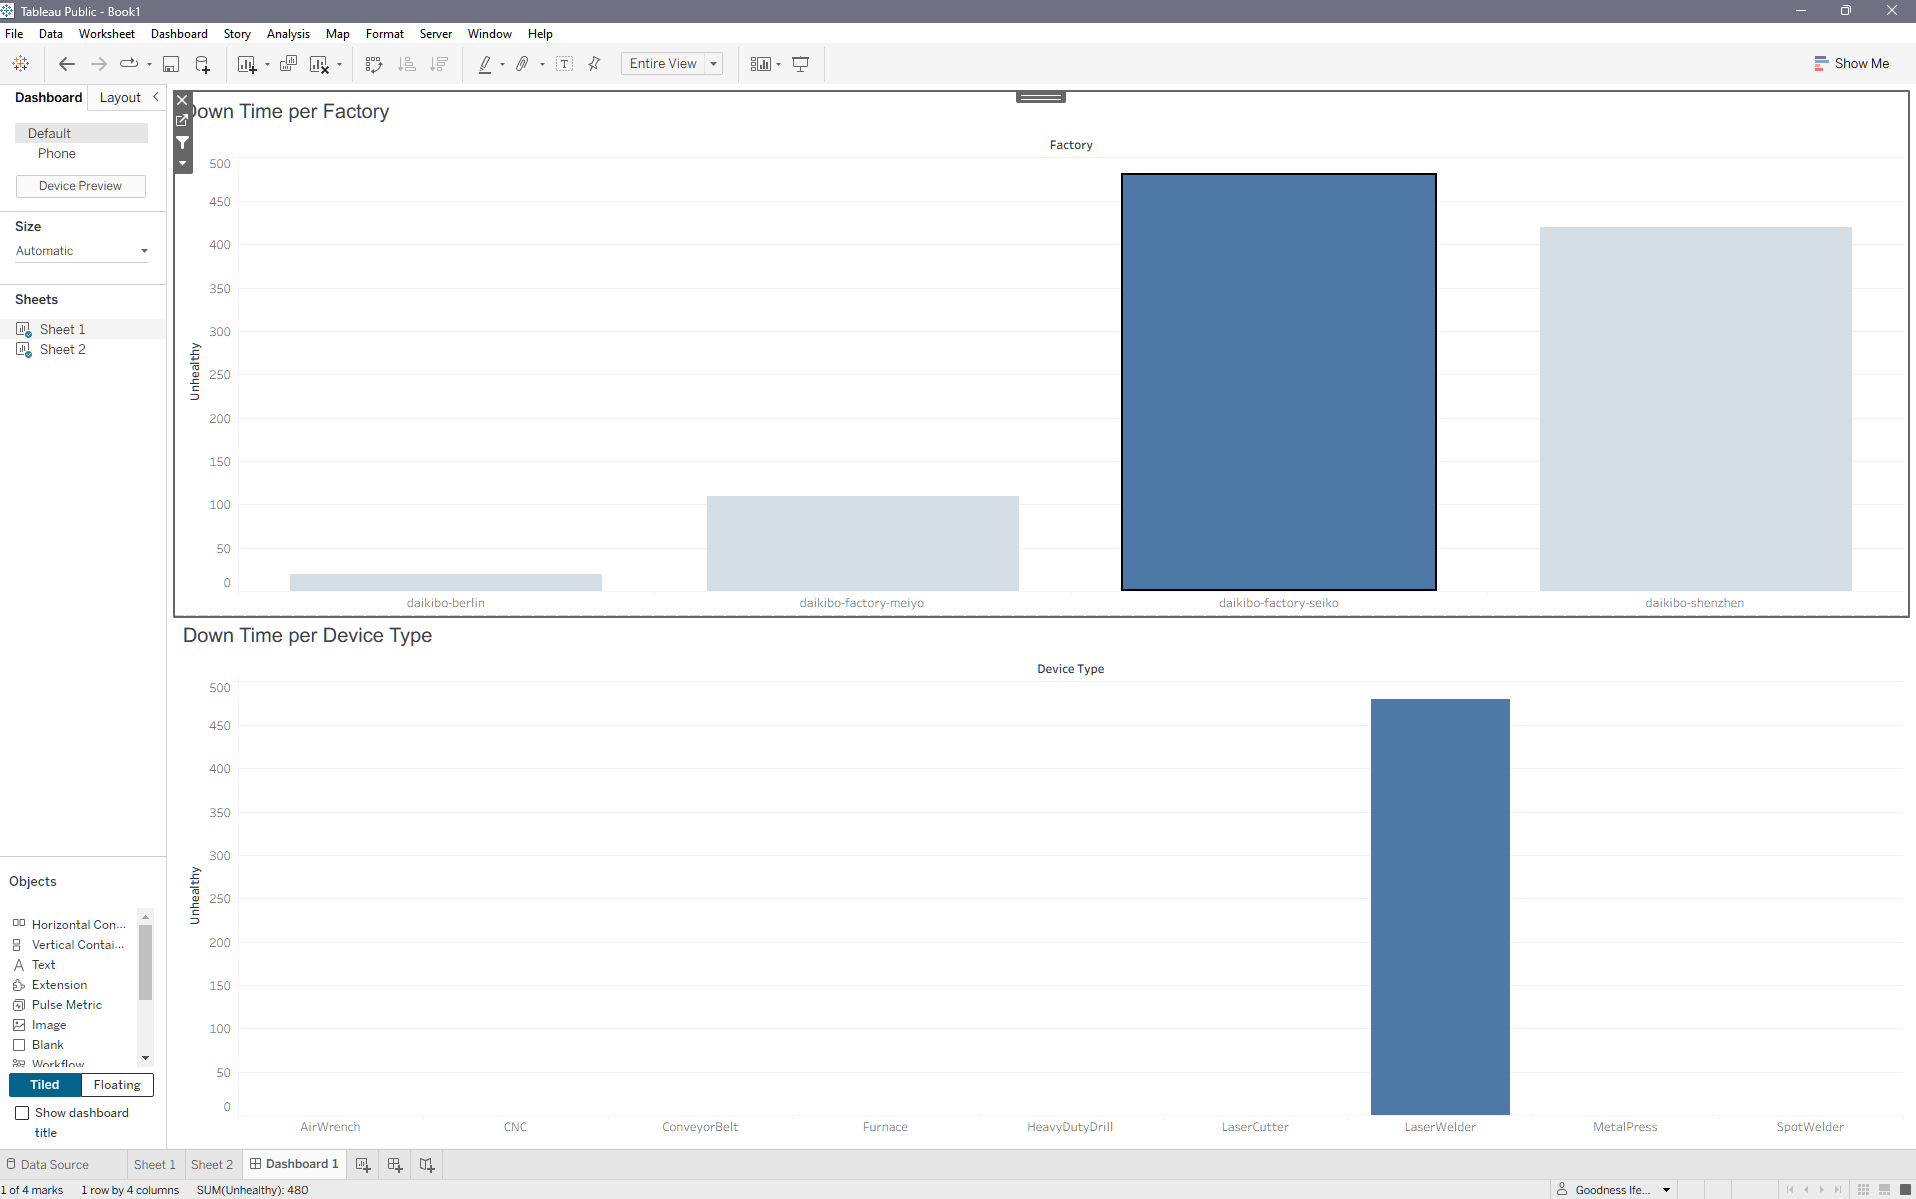

What the dashboard file says about the page in this screenshot:
{"tool":"tableau","page":{"name":"Dashboard 1","canvas":[1000,1000],"units":"permille","ordinal":0},"visuals":[{"type":"worksheet","title":"Sheet 1","mark":"Automatic","rows":["Calculation_1566319332175872"],"cols":["factory"],"box":[10.7,7.6,978.6,492.4]},{"type":"worksheet","title":"Sheet 2","mark":"Automatic","rows":["Calculation_1566319332175872"],"cols":["deviceType"],"box":[10.7,500,978.6,492.4]}]}

Visuals, with their boxes on the dashboard's canvas, which has no fixed pixel size, in thousandths of its width and height (x1, y1, x2, y2). These are canvas units, not pixel positions in the 1916x1199 screenshot, which may show the page scaled, cropped or inside an application window:
"Sheet 1" worksheet: (left=11, top=8, right=989, bottom=500)
"Sheet 2" worksheet: (left=11, top=500, right=989, bottom=992)
